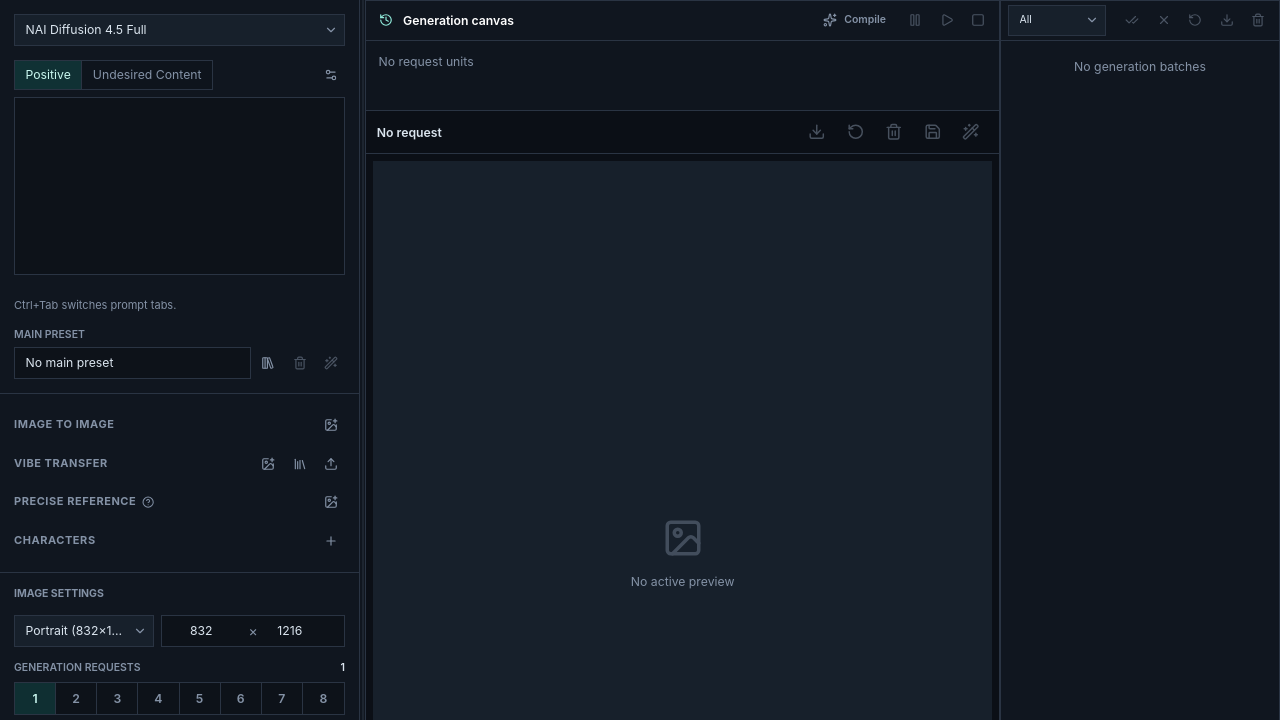
Test case: GeneratePage › hydrates the generation draft from workspace settings
Expected: the number field showing "832" is shown, x1=169 y1=622 x2=248 y2=640
Expected: the number field showing "1216" is shown, x1=258 y1=622 x2=337 y2=640
Click the dropdown named "Size preset": point(84, 631) x1=14 y1=615 x2=154 y2=646
(page scrolled)
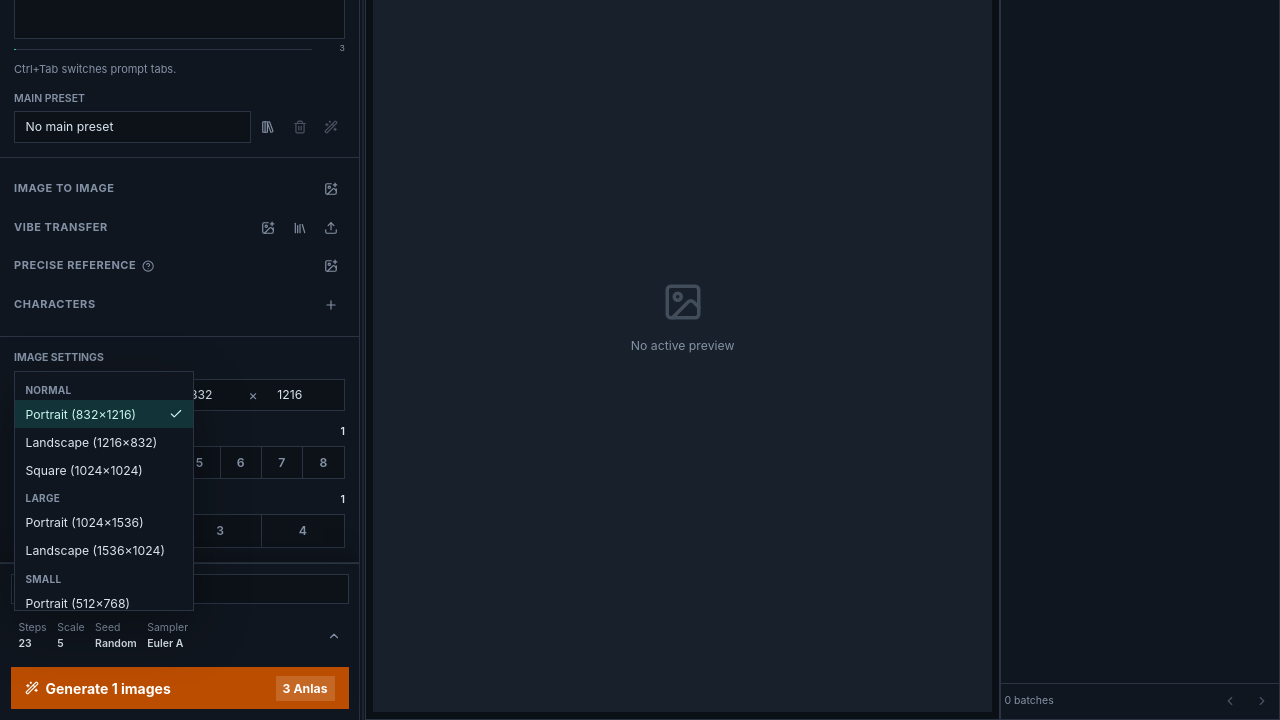
Expected: the element "Normal" is shown, x1=15 y1=376 x2=193 y2=484
Expected: the option "Portrait (832×1216)" is shown, x1=15 y1=400 x2=193 y2=428
Click the button "Steps 23 Scale 5 Seed Random Sampler Euler A": point(180, 636) x1=10 y1=613 x2=348 y2=659
(page scrolled)
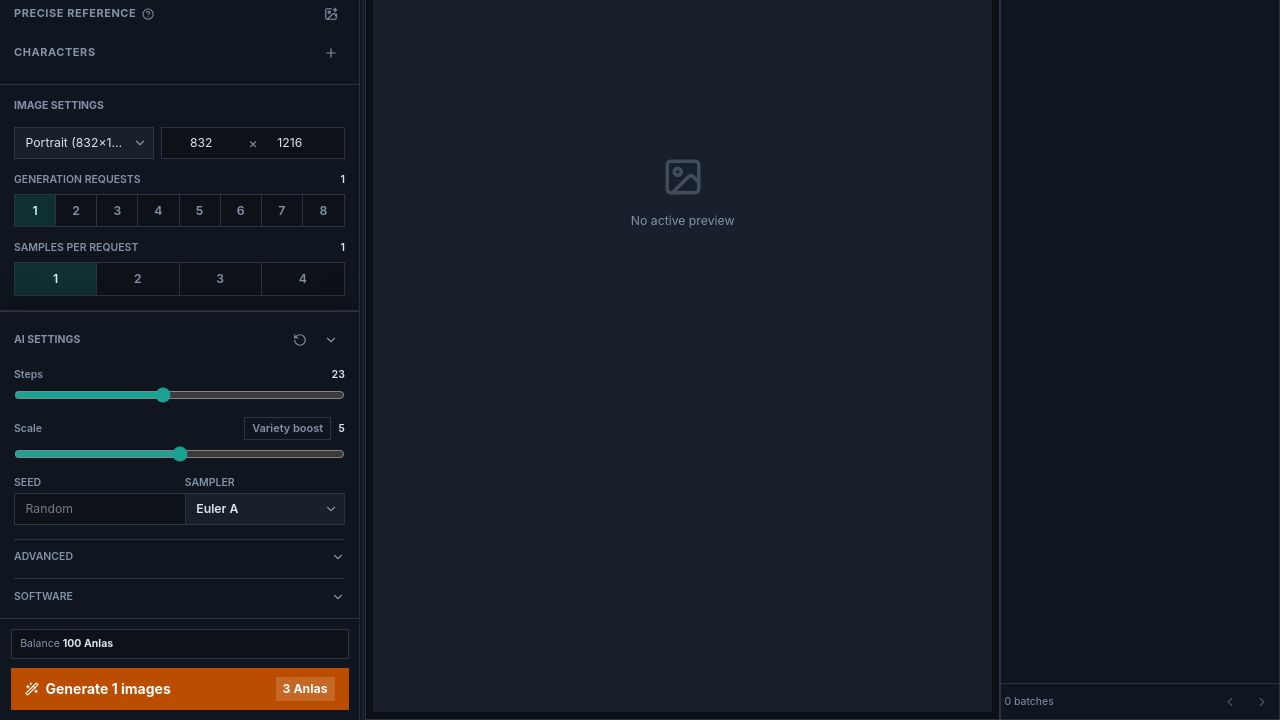
Expected: the dropdown named "Sampler" holds "k_euler_ancestral", x1=185 y1=493 x2=345 y2=525
Expected: the slider labelled "Steps" holds "23", x1=14 y1=387 x2=345 y2=403
Expected: the slider named "Scale" holds "5", x1=14 y1=446 x2=345 y2=462
